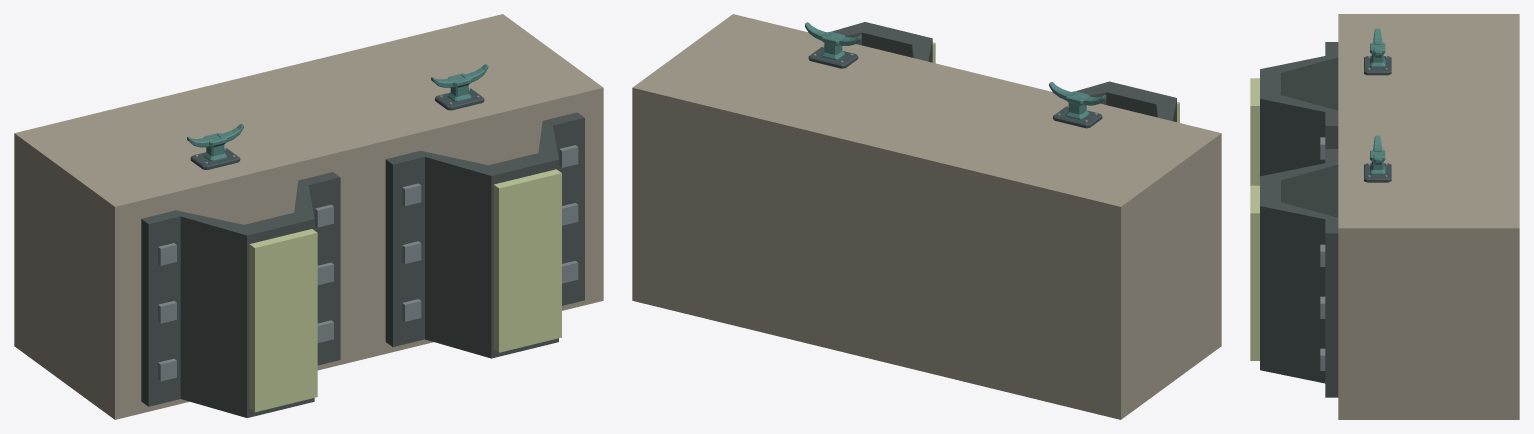
The picture shows the model from 3 angles, left to right: view 1: azimuth 30°, elevation 25°; view 2: azimuth 150°, elevation 25°; view 3: azimuth 270°, elevation 25°; orthographic projection. The views are drawn at different scales.
Parts seen in each view (by area): view 1: WholeSceneOnlyQuayMass, WestFender__WholeHollowArchWithBothSixPortMountingFlanges, EastFender__WholeHollowArchWithBothSixPortMountingFlanges, WestFender__WholeContinuousCrownWearPad, EastFender__WholeContinuousCrownWearPad; view 2: WholeSceneOnlyQuayMass, EastFender__WholeHollowArchWithBothSixPortMountingFlanges, WestFender__WholeHollowArchWithBothSixPortMountingFlanges; view 3: WholeSceneOnlyQuayMass, EastFender__WholeHollowArchWithBothSixPortMountingFlanges, WestFender__WholeHollowArchWithBothSixPortMountingFlanges, EastFender__WholeContinuousCrownWearPad, WestFender__WholeContinuousCrownWearPad, EastBollard__Base_FlatChamferedFoot, WestBollard__Base_FlatChamferedFoot, WestBollard__Post_FlaredShoulder, EastBollard__Post_FlaredShoulder.
Part boxes in pixels (box(x1,y1,x2,y2)): WholeSceneOnlyQuayMass: box(14, 14, 603, 419); WestFender__WholeHollowArchWithBothSixPortMountingFlanges: box(141, 172, 340, 417); EastFender__WholeHollowArchWithBothSixPortMountingFlanges: box(385, 112, 584, 358); WestFender__WholeContinuousCrownWearPad: box(249, 229, 317, 412); EastFender__WholeContinuousCrownWearPad: box(493, 169, 561, 352); WholeSceneOnlyQuayMass: box(632, 14, 1221, 419); EastFender__WholeHollowArchWithBothSixPortMountingFlanges: box(831, 22, 932, 62); WestFender__WholeHollowArchWithBothSixPortMountingFlanges: box(1076, 81, 1176, 122); WholeSceneOnlyQuayMass: box(1338, 14, 1519, 419); EastFender__WholeHollowArchWithBothSixPortMountingFlanges: box(1260, 149, 1338, 397); WestFender__WholeHollowArchWithBothSixPortMountingFlanges: box(1260, 42, 1338, 176); EastFender__WholeContinuousCrownWearPad: box(1250, 185, 1259, 360); WestFender__WholeContinuousCrownWearPad: box(1250, 78, 1259, 185); EastBollard__Base_FlatChamferedFoot: box(1364, 163, 1391, 182); WestBollard__Base_FlatChamferedFoot: box(1364, 56, 1391, 75); WestBollard__Post_FlaredShoulder: box(1370, 42, 1385, 67); EastBollard__Post_FlaredShoulder: box(1370, 150, 1385, 174).
Size of the model in its own units: 8.4 by 4 by 4.46.
